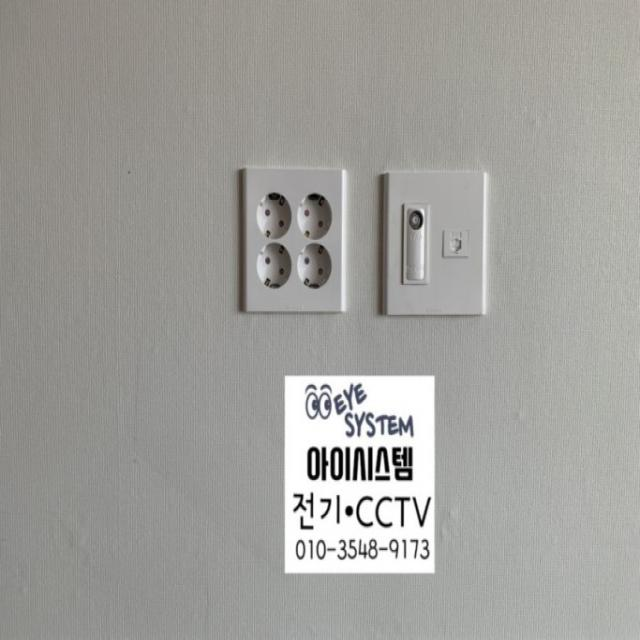typeb: (222, 127, 369, 356)
